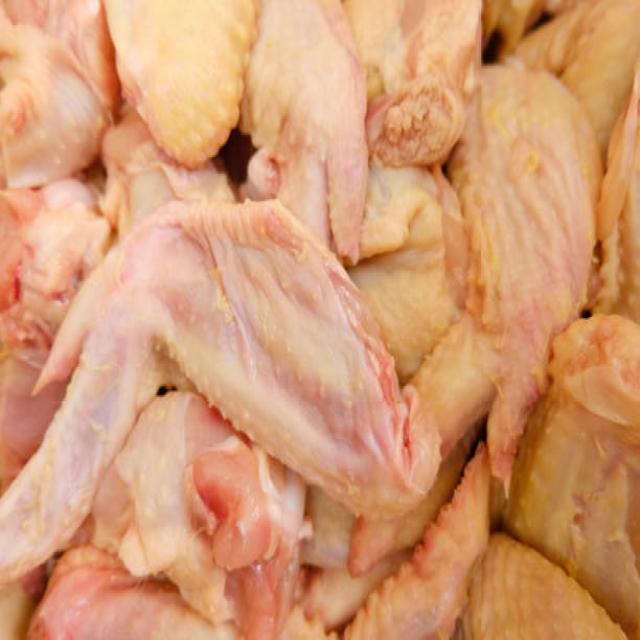Chicken: (0, 202, 411, 524)
